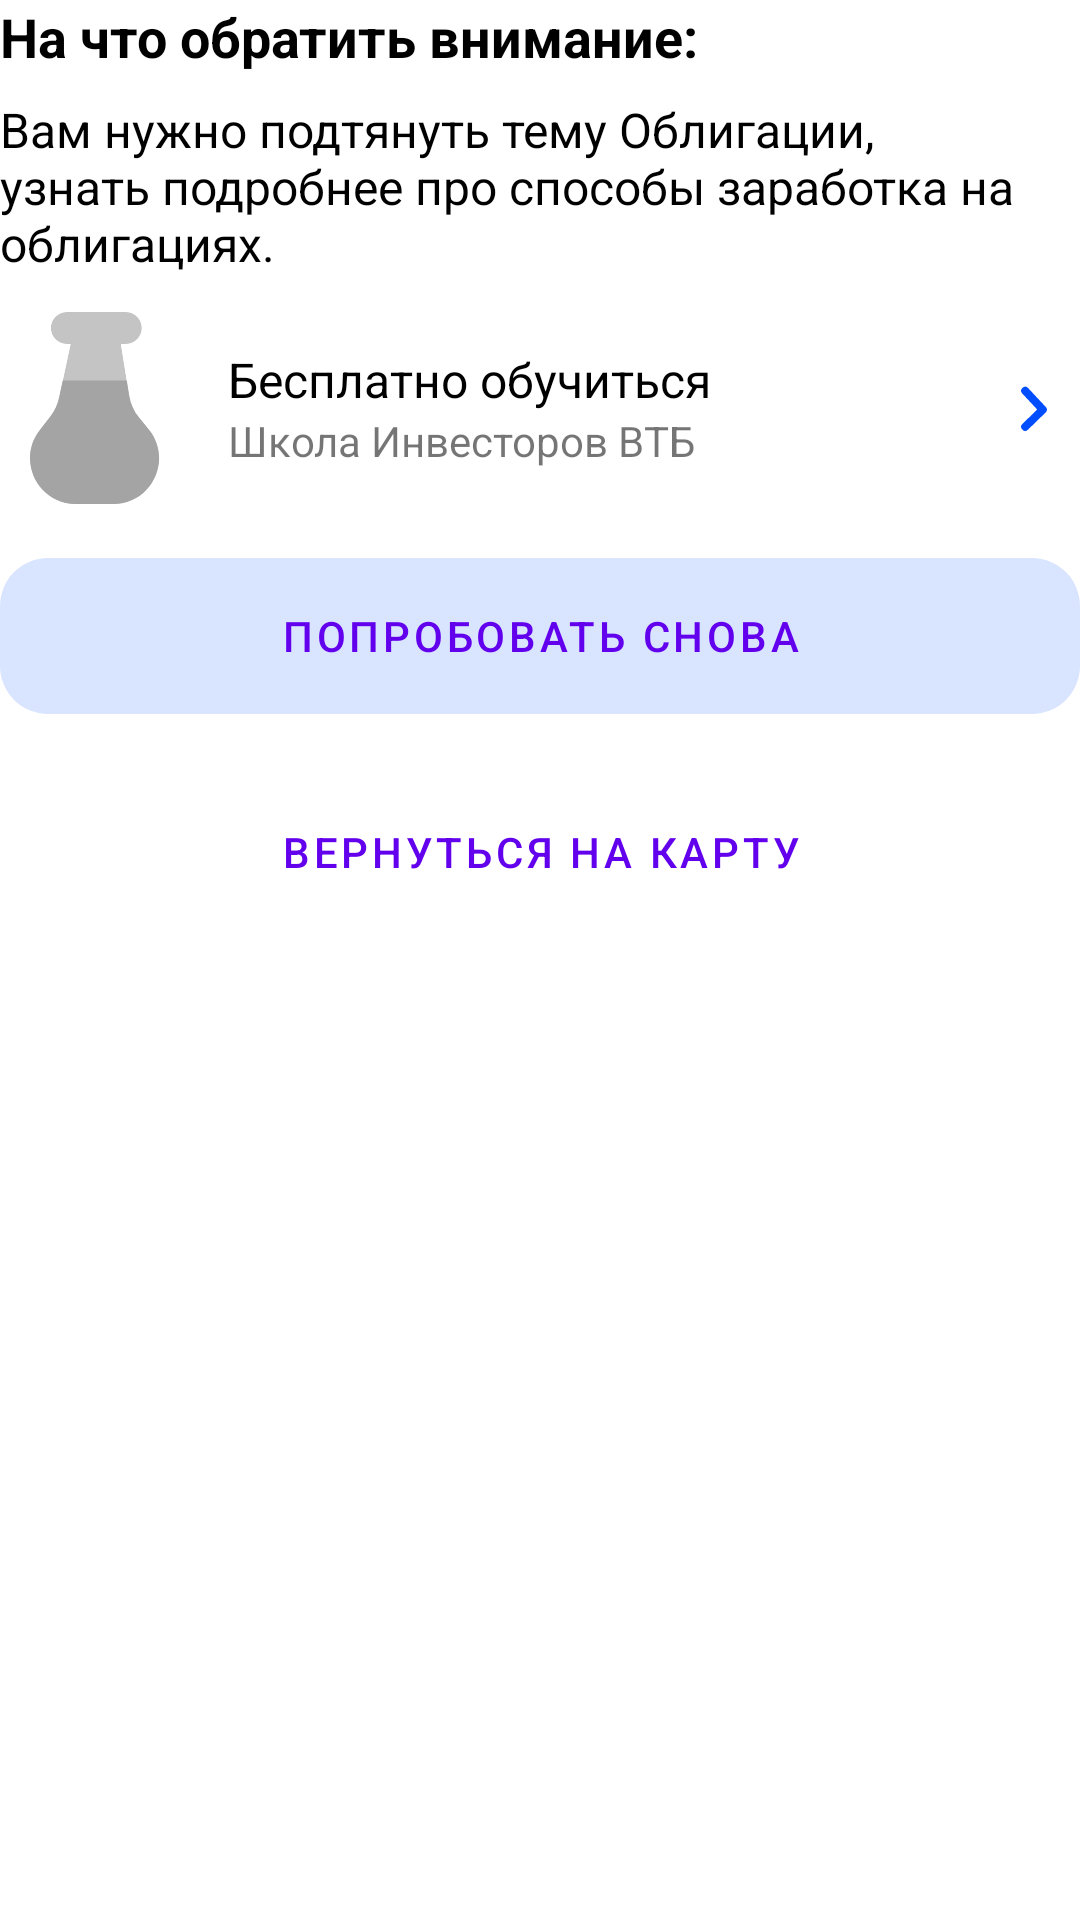

Screen size 1080*1920. Icon name, then its box in pixels as (x1, y1, x2, y2):
next: (1021, 386, 1047, 431)
potion: (30, 312, 159, 504)
